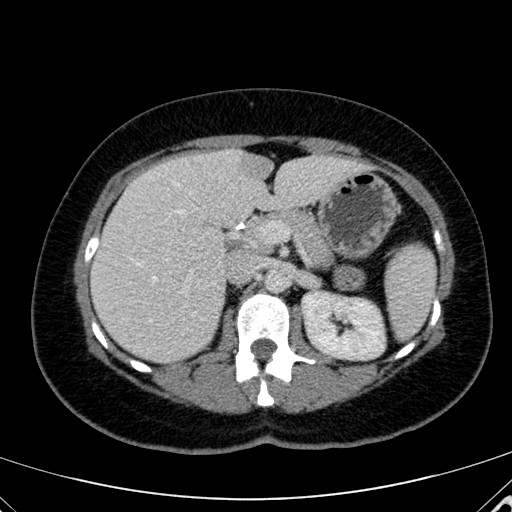clipe: (235, 222, 247, 231)
